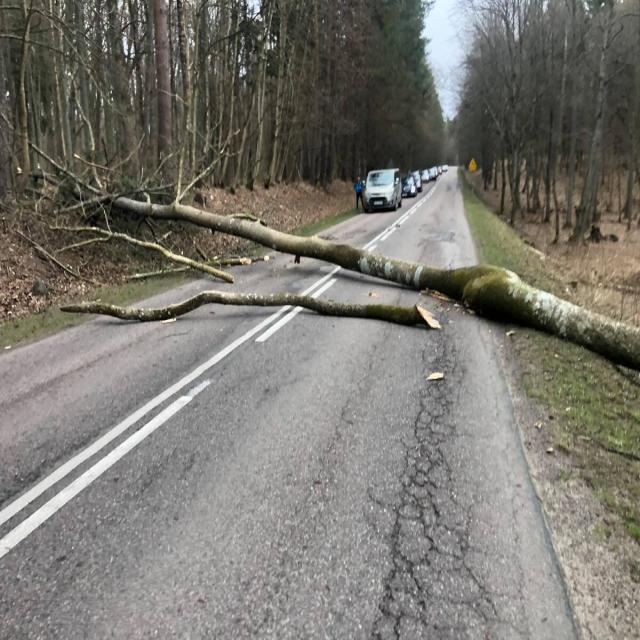fallen_tree: (101, 194, 640, 354)
